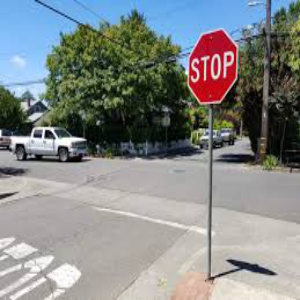STOP_SIGN: (186, 27, 239, 105)
